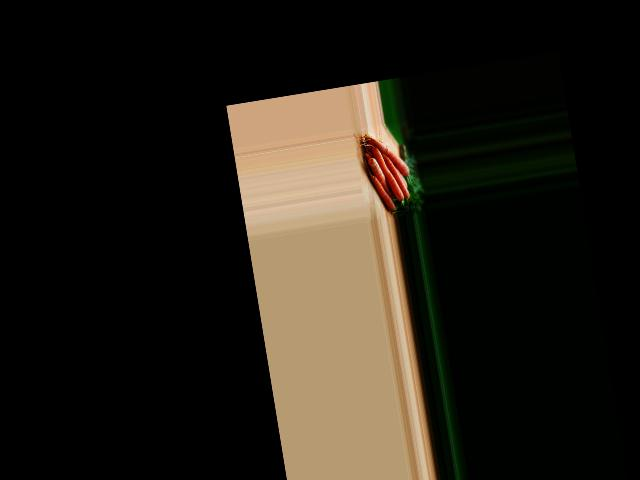carrot: (362, 168, 395, 216)
